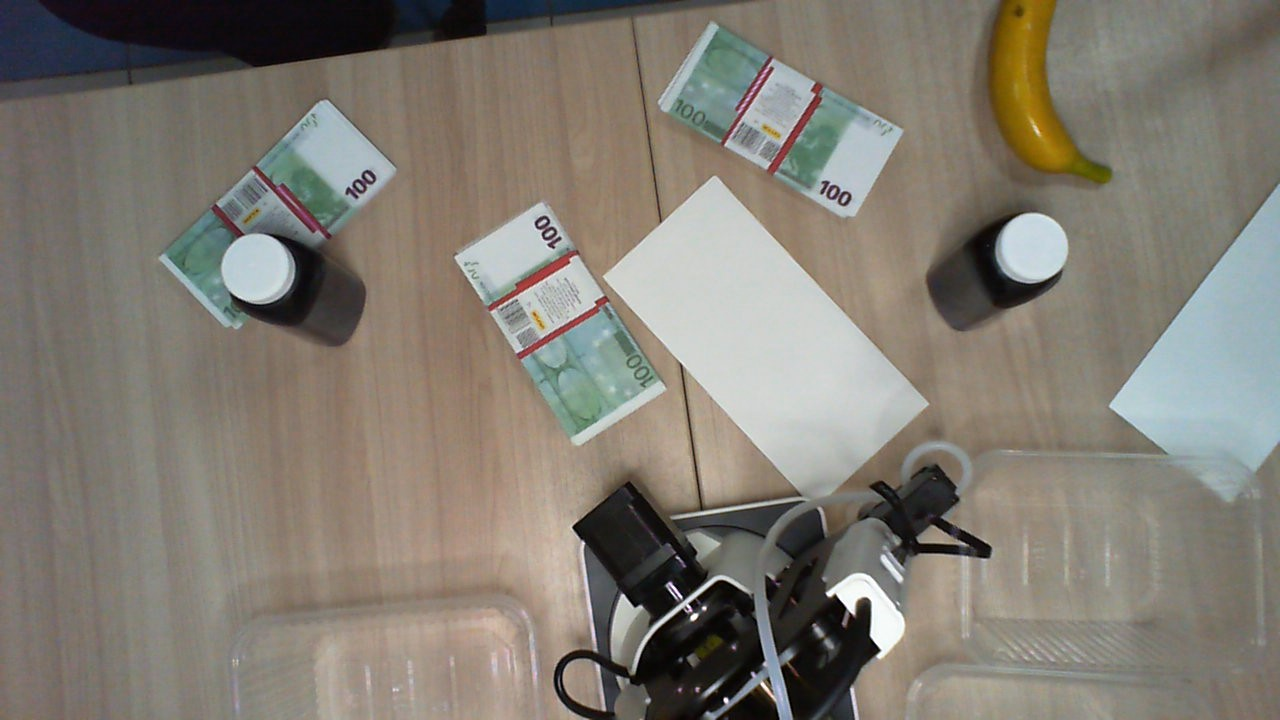banana: (989, 1, 1114, 187)
bottle: (220, 233, 321, 328), (977, 212, 1074, 304)
convert: (602, 176, 928, 505), (1111, 183, 1280, 504)
money: (158, 95, 400, 333), (457, 200, 668, 448), (658, 23, 908, 215)
